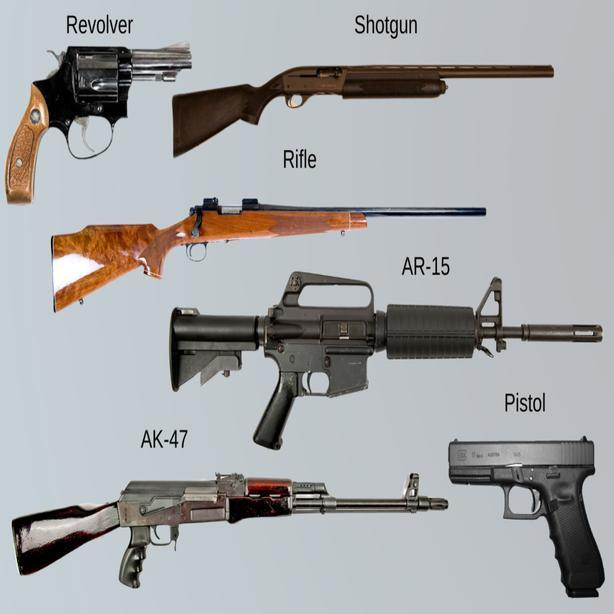Firearm: (145, 270, 614, 447), (54, 172, 514, 322), (0, 447, 450, 598), (174, 28, 565, 174), (5, 31, 198, 213), (440, 429, 614, 614)
